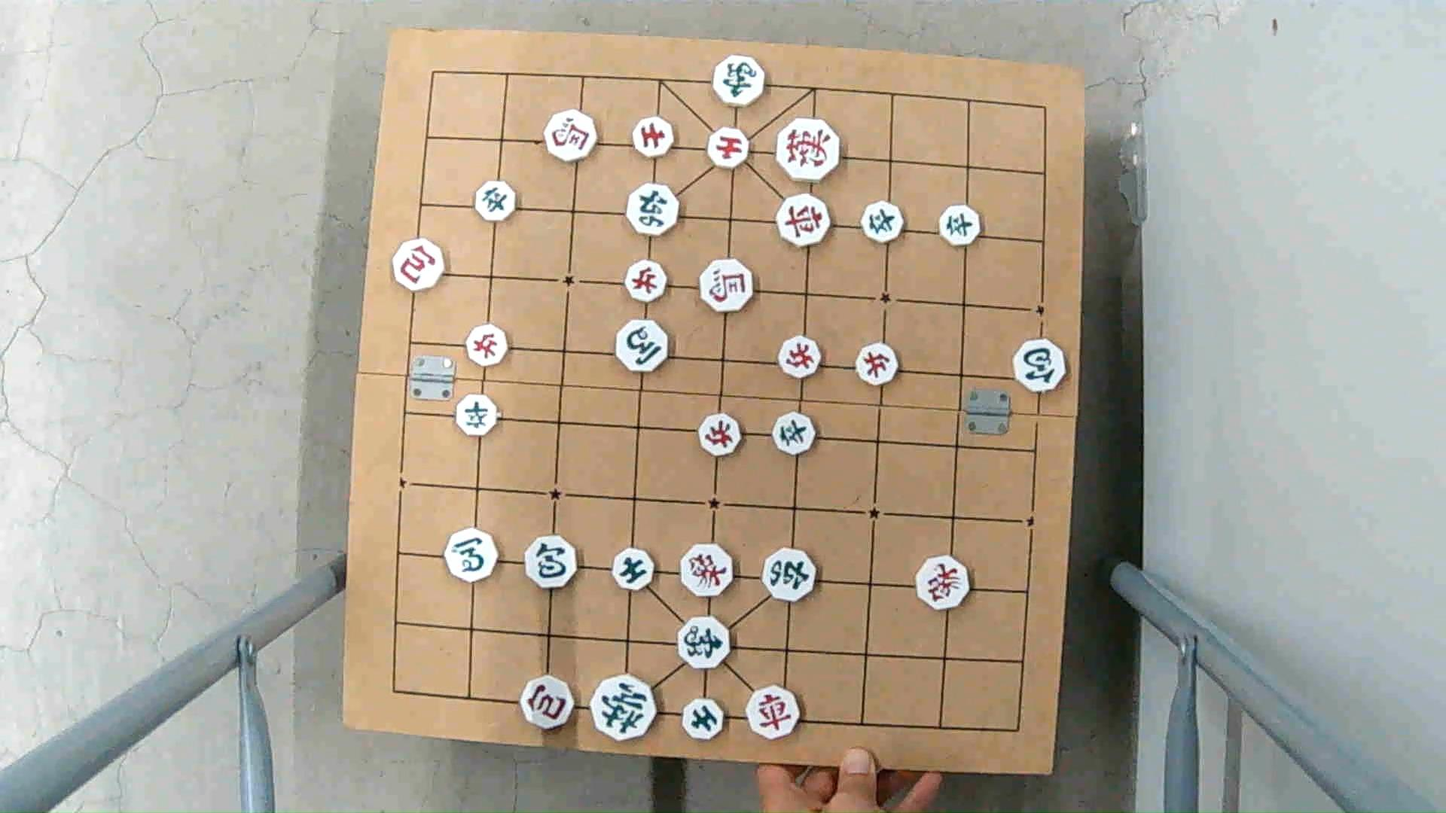cha_green: (761, 551, 818, 601), (625, 187, 681, 236)
cha_red: (748, 689, 804, 738), (777, 195, 833, 243)
jol_green: (940, 202, 984, 248), (455, 393, 499, 437), (773, 416, 819, 455), (474, 181, 519, 220), (862, 205, 906, 242)
jol_red: (776, 336, 826, 377), (697, 414, 743, 457), (466, 327, 511, 366), (855, 345, 898, 385), (627, 263, 671, 301)
ma_green: (446, 533, 500, 583), (617, 324, 671, 371)
ma_red: (699, 260, 755, 309), (544, 111, 599, 158)
po_green: (1010, 341, 1066, 391), (523, 536, 578, 586)
po_red: (520, 679, 575, 730), (390, 242, 446, 290)
sa_green: (681, 695, 726, 735), (612, 550, 655, 589)
sa_red: (630, 117, 677, 160), (706, 129, 753, 166)
sang_green: (708, 54, 769, 107), (677, 617, 735, 667)
sang_red: (918, 557, 973, 608), (681, 544, 735, 591)
wang_green: (592, 678, 662, 739)
wang_red: (778, 120, 844, 181)
